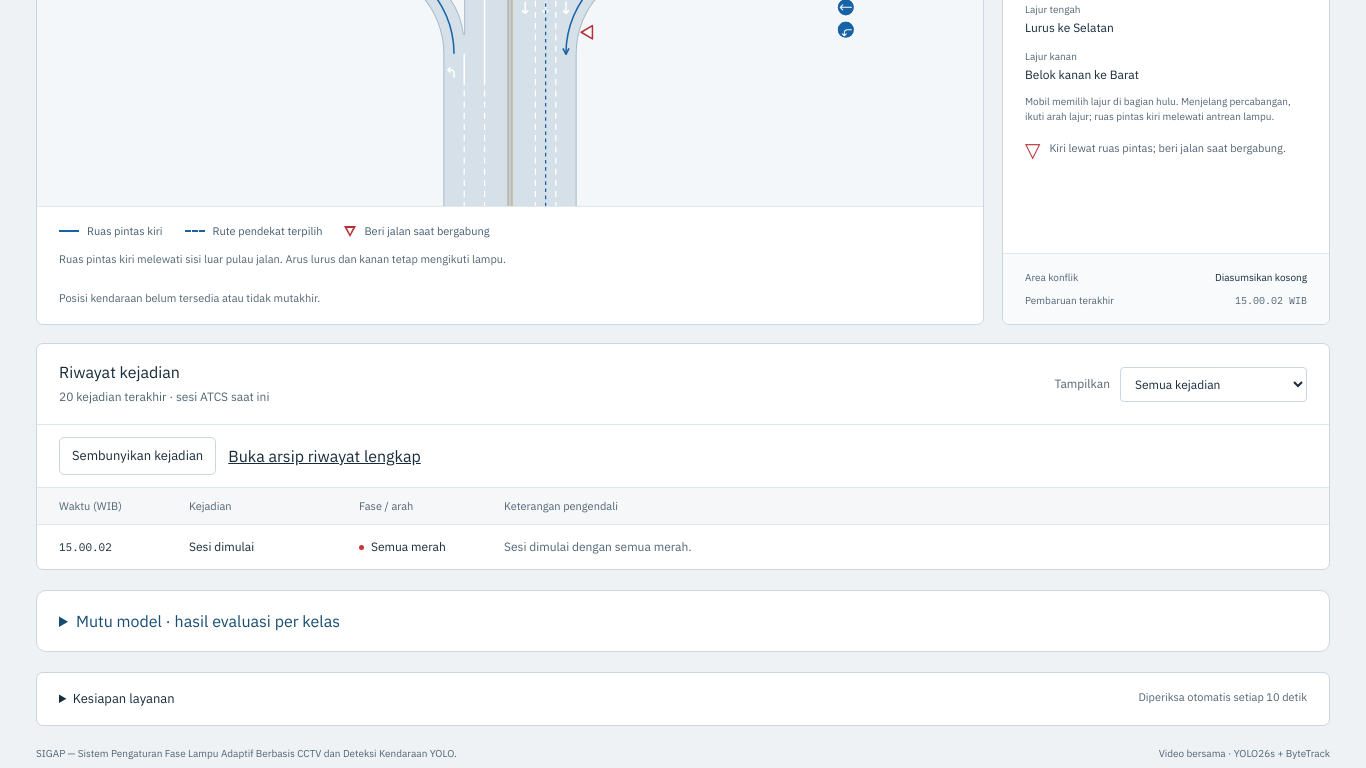
Test: intersection operator screen › filters real events without inserting example history
(page scrolled)
Expected: the text "Sesi dimulai dengan semua merah." is shown, [482,525,1329,569]
Select "Pergantian fase" in the dropdown labelled "Tampilkan" at point(1214, 384), box [1120,367,1307,402]
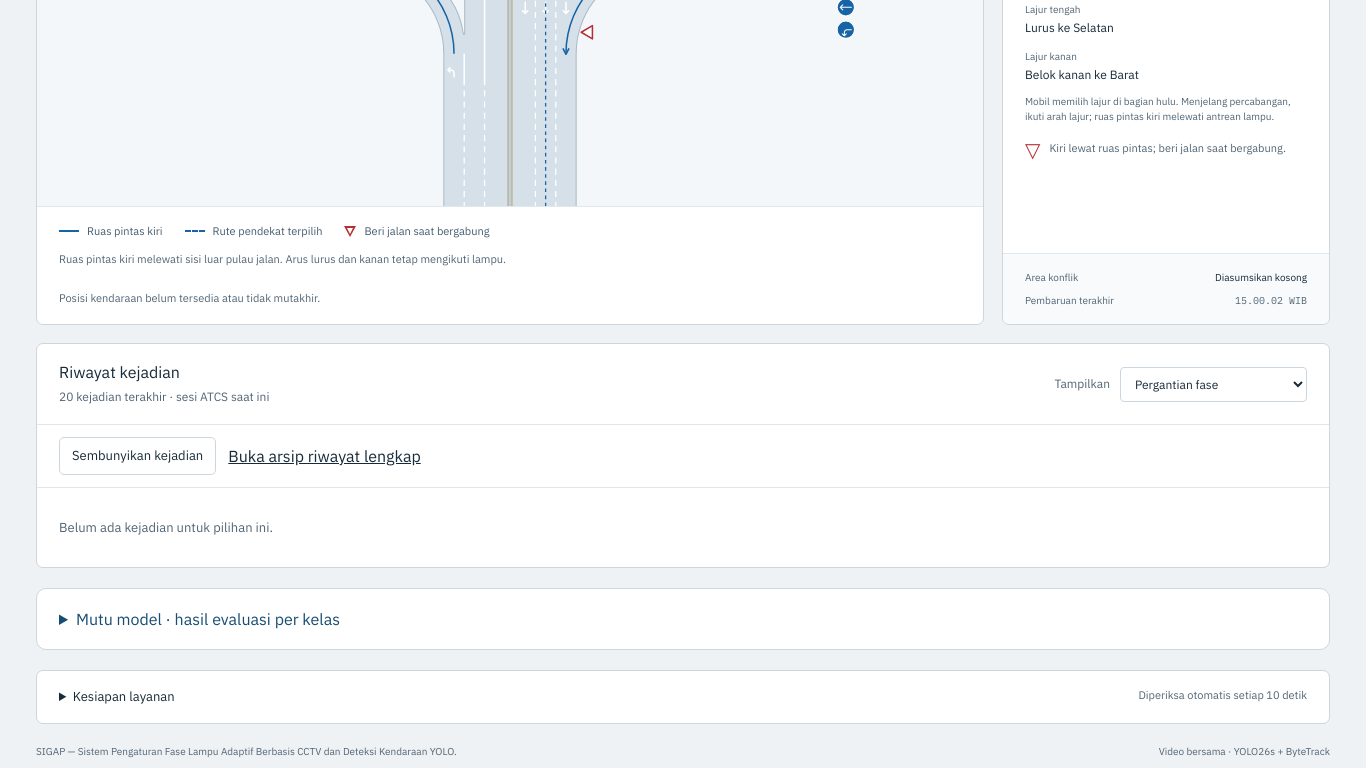
Expected: the text "Sesi dimulai dengan semua merah." is gone
Expected: the text "Belum ada kejadian untuk pilihan ini." is shown, [37,487,1329,567]
